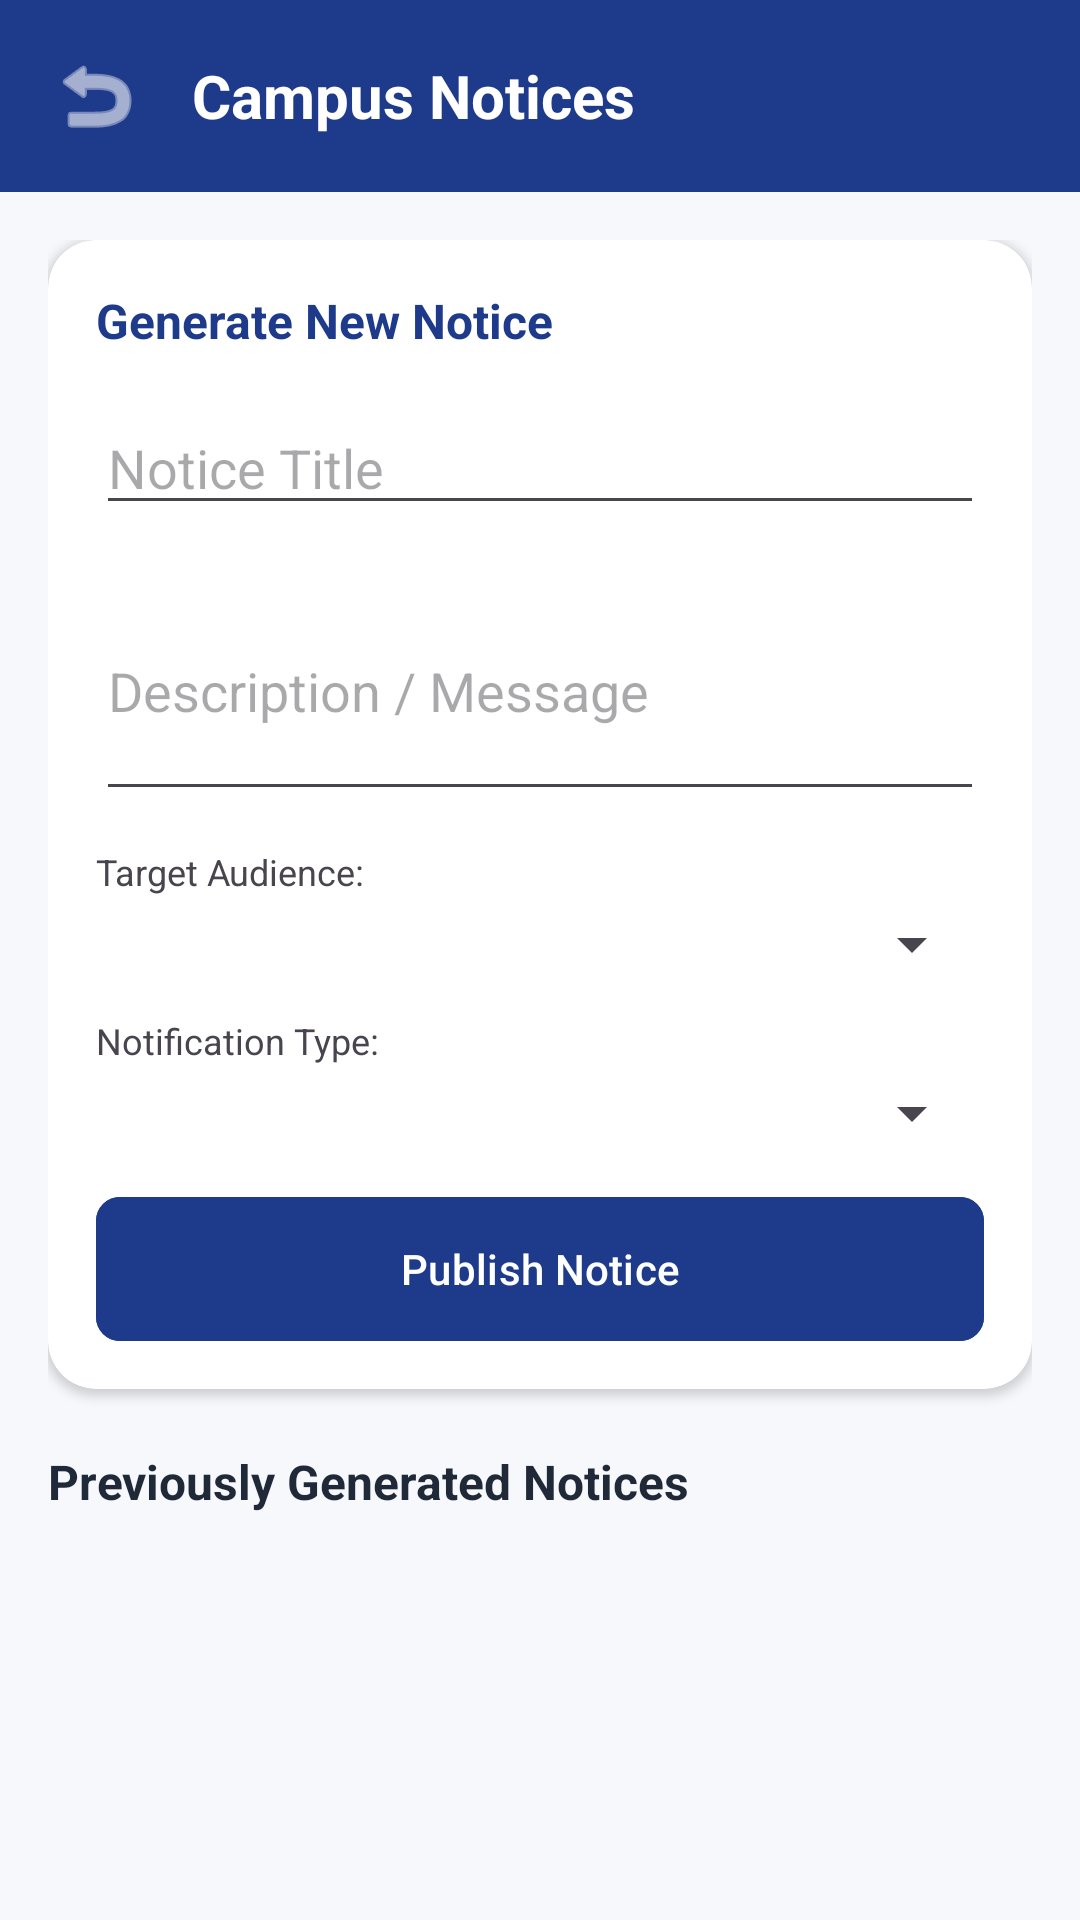

Icon bounding boxes for this 1080w x 1920h phone screenshot, format (left=x1, top=y1, right=x2, bottom=y2):
Back: (left=63, top=65, right=132, bottom=128)
